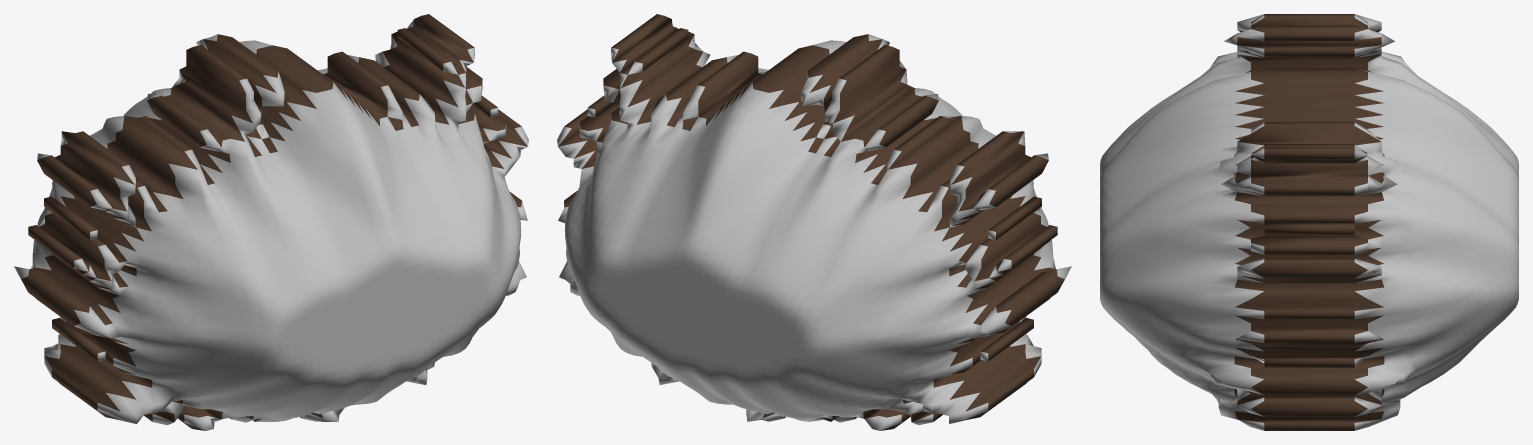
File: roc_nest.glb
3 renders of one model, left to right at view 1: azimuth 30°, elevation 25°; view 2: azimuth 150°, elevation 25°; view 3: azimuth 270°, elevation 25°, orthographic.
Visible parts, largest first — view 1: roc_nest; view 2: roc_nest; view 3: roc_nest.
Boxes of the visible parts, <box> form: roc_nest: <box>14,14,528,430</box>; roc_nest: <box>557,14,1071,430</box>; roc_nest: <box>1100,14,1518,430</box>.
Bounding box in the file's own units: 0.9068 × 0.6841 × 0.7492.
